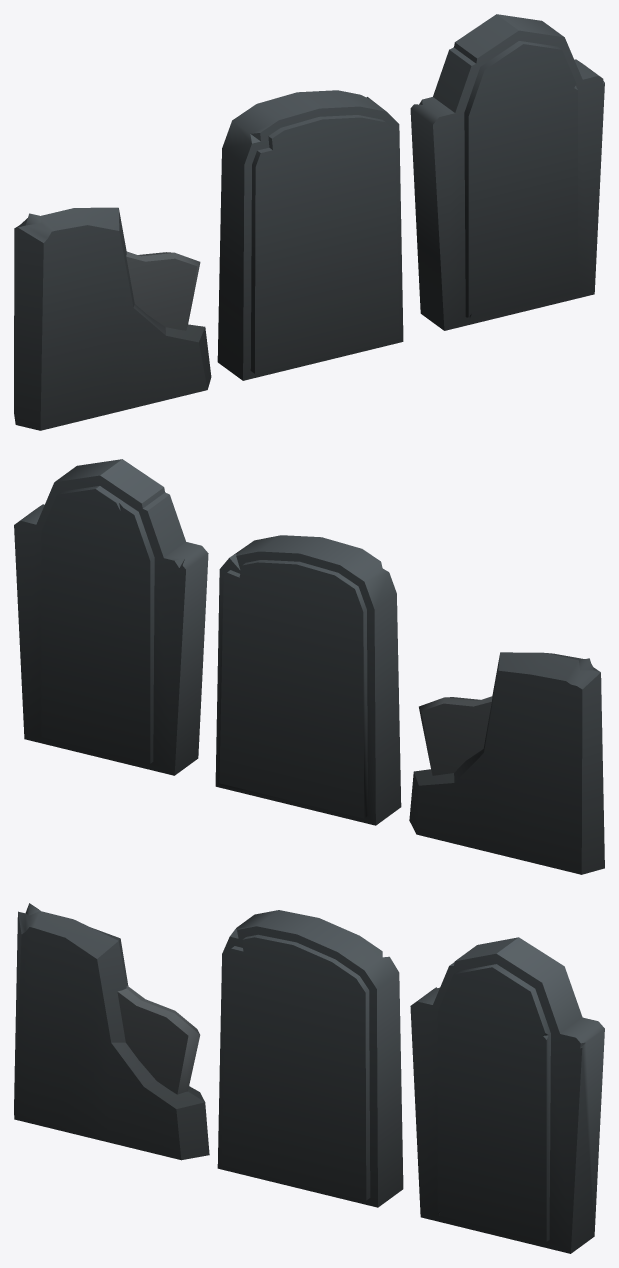
The model's file is tombstones.fbx.
The picture shows the model from 3 angles, top to bottom: view 1: azimuth 30°, elevation 25°; view 2: azimuth 150°, elevation 25°; view 3: azimuth 330°, elevation 25°; orthographic projection.
Visible parts, largest first — view 1: tombstone_01, tombstone_03, tombstone_02; view 2: tombstone_01, tombstone_03, tombstone_02; view 3: tombstone_01, tombstone_03, tombstone_02.
Part boxes in pixels (x1,y1,x2,y2): tombstone_01: (410, 14, 604, 330); tombstone_03: (217, 90, 403, 380); tombstone_02: (14, 207, 211, 430); tombstone_01: (14, 459, 208, 775); tombstone_03: (215, 535, 401, 825); tombstone_02: (409, 652, 604, 874); tombstone_01: (410, 937, 604, 1253); tombstone_03: (217, 910, 403, 1207); tombstone_02: (14, 903, 209, 1160).
Bounding box in the file's own units: 343 × 159 × 34.18.
